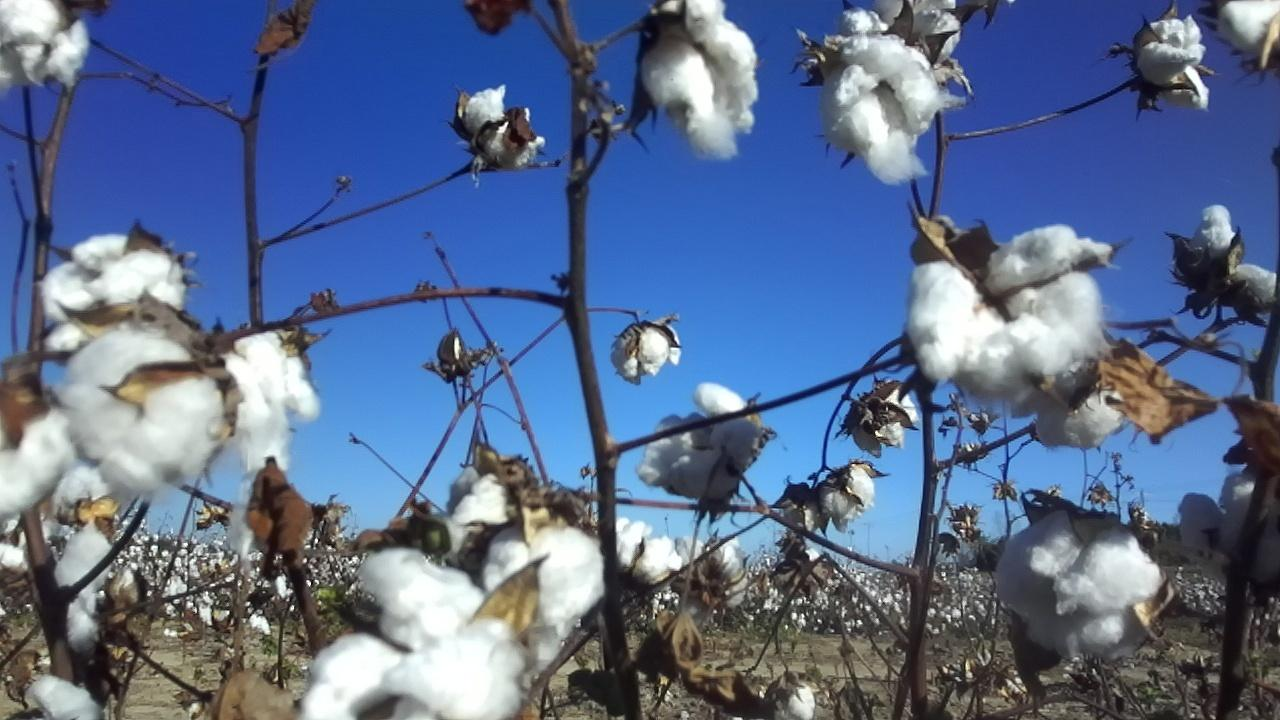cotton_ready: (303, 547, 527, 720), (907, 227, 1117, 409), (55, 329, 225, 498), (992, 512, 1166, 667), (221, 330, 319, 559), (641, 0, 759, 162), (39, 230, 189, 353), (484, 524, 605, 675), (832, 34, 941, 189), (633, 382, 760, 489), (1179, 477, 1280, 589), (1185, 202, 1280, 309), (0, 399, 79, 519), (445, 467, 545, 553), (0, 0, 89, 94), (845, 0, 965, 67), (462, 84, 548, 169), (1137, 15, 1212, 110), (786, 464, 879, 537), (55, 529, 111, 644), (678, 535, 749, 610), (1030, 389, 1119, 444), (615, 519, 685, 584), (854, 387, 919, 457), (1209, 0, 1280, 60), (619, 320, 680, 379), (0, 511, 59, 572), (25, 677, 102, 720), (768, 675, 815, 720)
